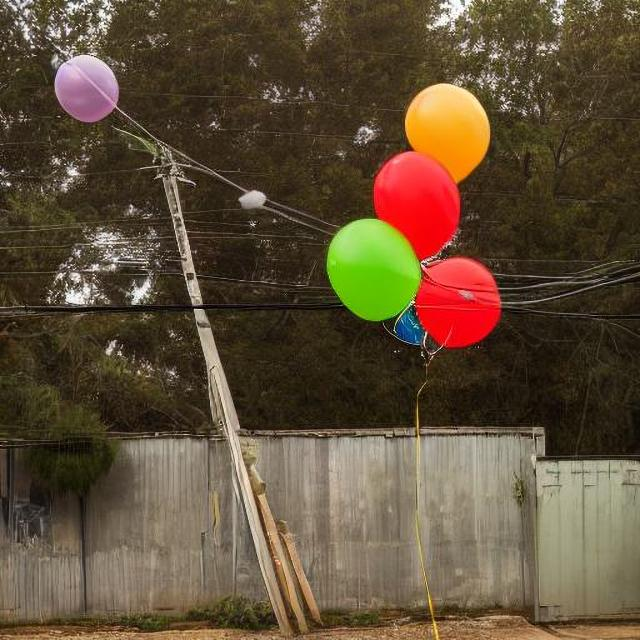balloon: (328, 152, 502, 352), (396, 78, 495, 188), (50, 54, 119, 123)
